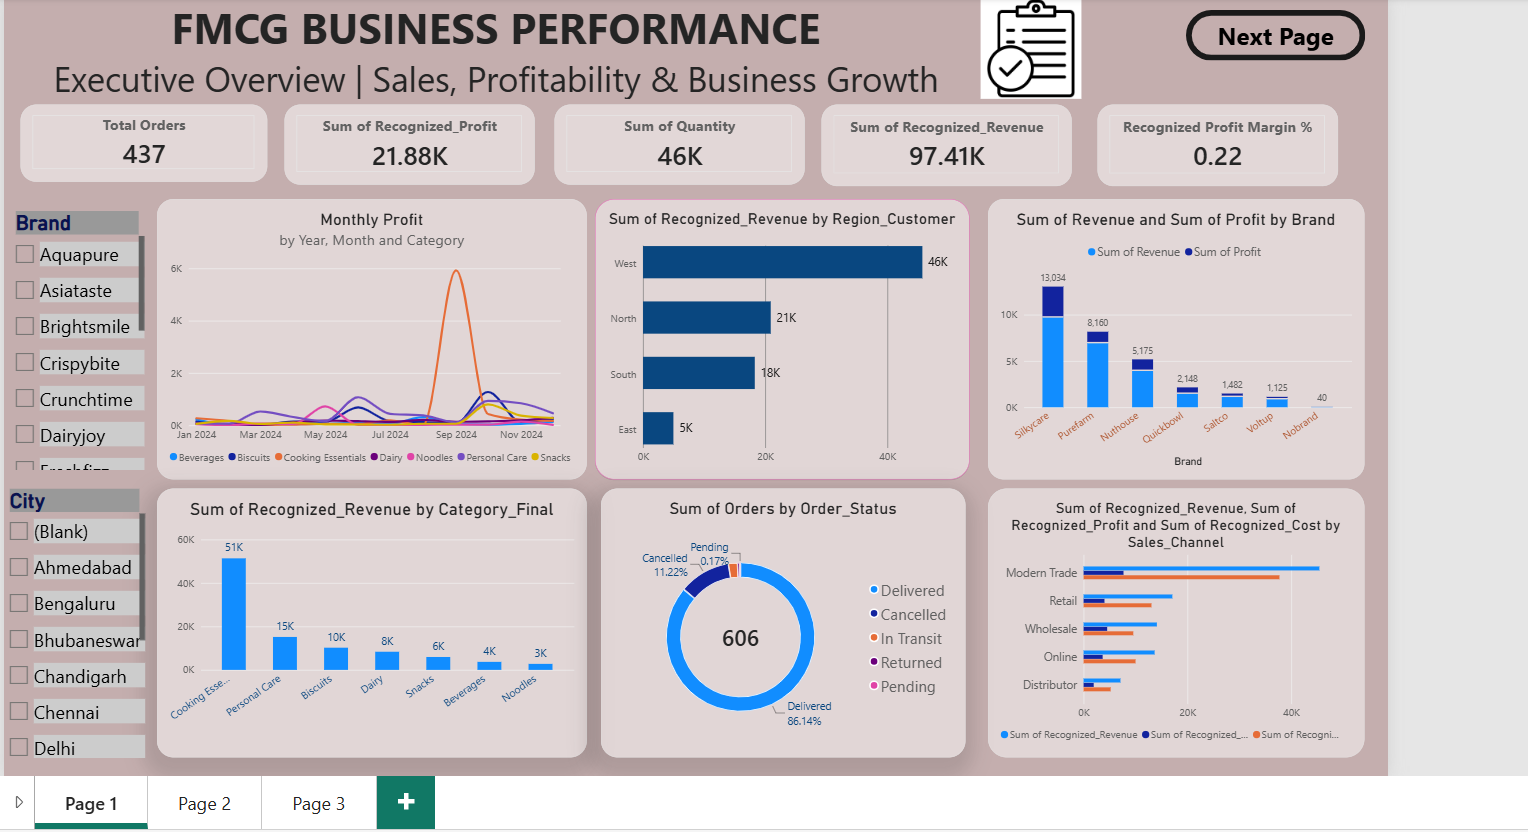

This screenshot's page, from the dashboard's own definition file:
{"tool":"powerbi","page":{"name":"Page 1","canvas":[1920,1080],"ordinal":0},"visuals":[{"type":"textbox","box":[9.3,0,1357.2,139.9],"z":0},{"type":"lineChart","fields":{"Category":["Recognized_Sales.Month.Variation.Date Hierarchy.Year","Recognized_Sales.Month.Variation.Date Hierarchy.Month"],"Series":["Recognized_Sales.Category"],"Y":["Recognized_Sales.Monthly Profit"]},"box":[212.2,279.8,597,389.4],"z":1000},{"type":"columnChart","fields":{"Category":["Recognized_Sales.Category_Final"],"Y":["Sum(Recognized_Sales.Recognized_Revenue)"]},"box":[212.2,680.9,597,373.1],"z":2000},{"type":"clusteredBarChart","fields":{"Category":["Recognized_Sales.Region_Customer"],"Y":["Sum(Recognized_Sales.Recognized_Revenue)"]},"box":[820.9,279.8,520,389.4],"z":3000},{"type":"donutChart","fields":{"Category":["Order_Status.Order_Status"],"Y":["Sum(Order_Status.Orders)"]},"box":[827.9,680.9,506,373.1],"z":4000},{"type":"lineStackedColumnComboChart","fields":{"Category":["Brand_Analysis.Brand"],"Y":["Sum(Brand_Analysis.Revenue)","Sum(Brand_Analysis.Profit)"]},"box":[1366.6,279.8,522.4,389.4],"z":5000},{"type":"clusteredBarChart","fields":{"Category":["Recognized_Sales.Sales_Channel"],"Y":["Sum(Recognized_Sales.Recognized_Revenue)","Sum(Recognized_Sales.Recognized_Profit)","Sum(Recognized_Sales.Recognized_Cost)"]},"box":[1366.6,680.9,522.4,373.1],"z":6000},{"type":"cardVisual","fields":{"Data":["Sum(Recognized_Sales.Recognized_Revenue)"]},"box":[1135.7,146.9,347.5,113.6],"z":7000},{"type":"cardVisual","fields":{"Data":["Sum(Recognized_Sales.Recognized_Profit)"]},"box":[389.4,146.9,347.5,111.3],"z":8000},{"type":"cardVisual","fields":{"Data":["Recognized_Sales.Recognized Profit Margin %"]},"box":[1518.1,146.9,333.9,113.6],"z":9000},{"type":"cardVisual","fields":{"Data":["Recognized_Sales.Total Orders"]},"box":[23.3,146.9,342.8,107.3],"z":10000},{"type":"cardVisual","fields":{"Data":["Sum(Recognized_Sales.Quantity)"]},"box":[764.9,146.9,347.5,111.3],"z":11000},{"type":"slicer","fields":{"Values":["Recognized_Sales.Brand"]},"box":[9.3,296.2,186.6,359.1],"z":12000},{"type":"slicer","fields":{"Values":["Recognized_Sales.City"]},"box":[0,680.9,195.9,373.1],"z":13000},{"type":"image","box":[1308.5,0,235.5,139.9],"z":14000},{"type":"actionButton","title":"Next Pagr","box":[1640.4,17,248.9,70.2],"z":15000}]}

Visuals, with their boxes on the page's 1920x1080 design canvas (x1, y1, x2, y2). These are canvas units, not pixel positions in the 1528x832 screenshot, which may show the page scaled, cropped or inside an application window:
textbox: <bbox>9, 0, 1366, 140</bbox>
lineChart - Recognized_Sales.Month.Variation.Date Hierarchy.Year x Recognized_Sales.Month.Variation.Date Hierarchy.Month: <bbox>212, 280, 809, 669</bbox>
columnChart - Recognized_Sales.Category_Final x Sum(Recognized_Sales.Recognized_Revenue): <bbox>212, 681, 809, 1054</bbox>
clusteredBarChart - Recognized_Sales.Region_Customer x Sum(Recognized_Sales.Recognized_Revenue): <bbox>821, 280, 1341, 669</bbox>
donutChart - Order_Status.Order_Status x Sum(Order_Status.Orders): <bbox>828, 681, 1334, 1054</bbox>
lineStackedColumnComboChart - Brand_Analysis.Brand x Sum(Brand_Analysis.Revenue): <bbox>1367, 280, 1889, 669</bbox>
clusteredBarChart - Recognized_Sales.Sales_Channel x Sum(Recognized_Sales.Recognized_Revenue): <bbox>1367, 681, 1889, 1054</bbox>
cardVisual - Sum(Recognized_Sales.Recognized_Revenue): <bbox>1136, 147, 1483, 260</bbox>
cardVisual - Sum(Recognized_Sales.Recognized_Profit): <bbox>389, 147, 737, 258</bbox>
cardVisual - Recognized_Sales.Recognized Profit Margin %: <bbox>1518, 147, 1852, 260</bbox>
cardVisual - Recognized_Sales.Total Orders: <bbox>23, 147, 366, 254</bbox>
cardVisual - Sum(Recognized_Sales.Quantity): <bbox>765, 147, 1112, 258</bbox>
slicer - Recognized_Sales.Brand: <bbox>9, 296, 196, 655</bbox>
slicer - Recognized_Sales.City: <bbox>0, 681, 196, 1054</bbox>
image: <bbox>1308, 0, 1544, 140</bbox>
"Next Pagr" actionButton: <bbox>1640, 17, 1889, 87</bbox>
